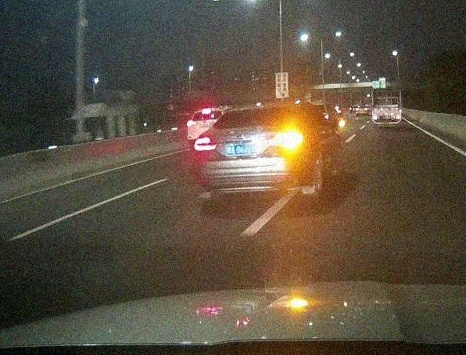L_light: (193, 135, 216, 152)
R_light: (273, 132, 304, 148)
T_light: (249, 107, 269, 112)
night-right: (193, 101, 317, 200)
